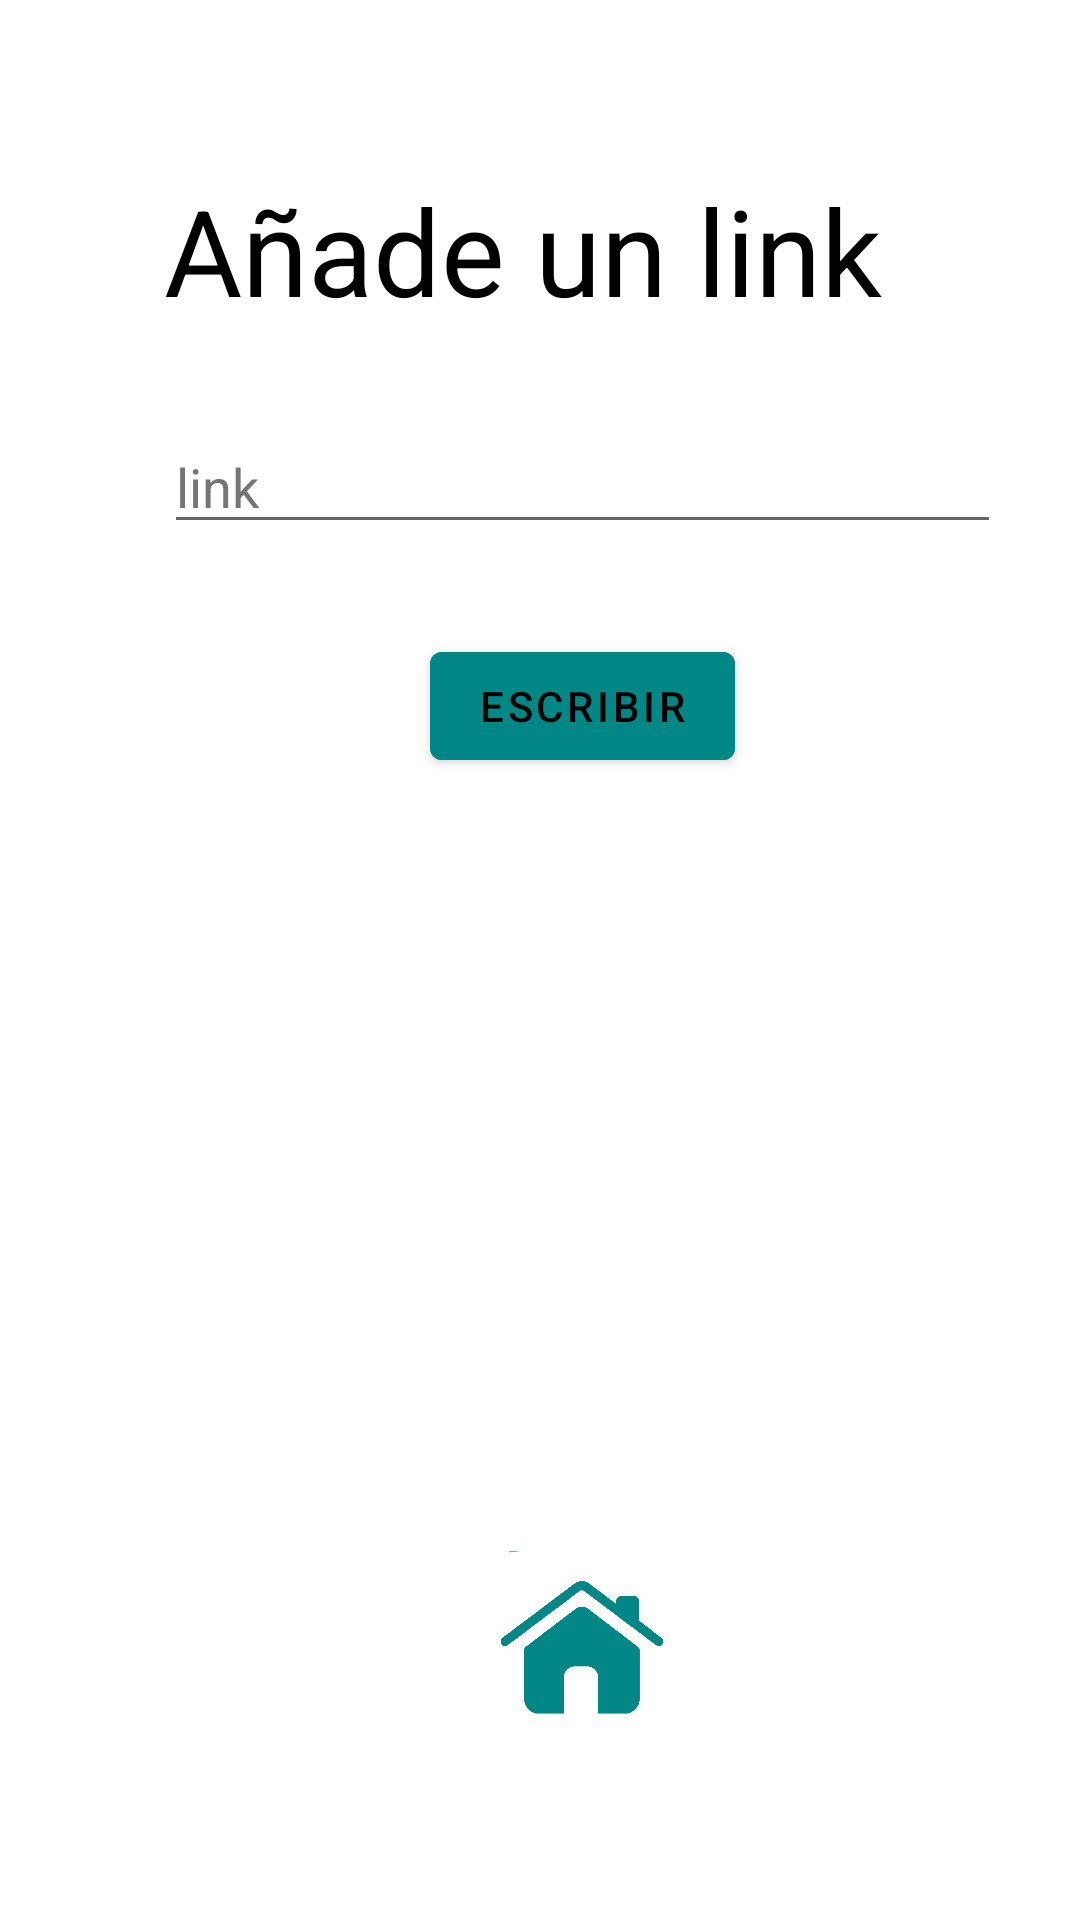

Icons on this 1080*1920 Android screen, each with the point to tap as (x,y):
home: (582,1632)
